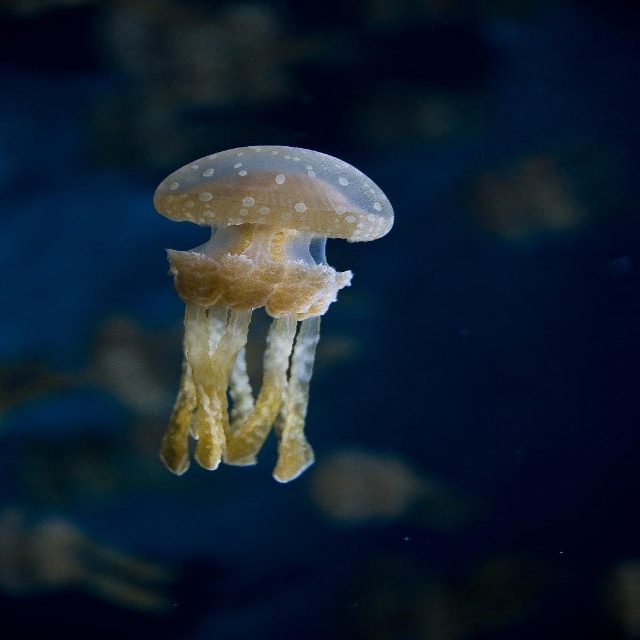Jellyfish: (149, 140, 395, 482)
